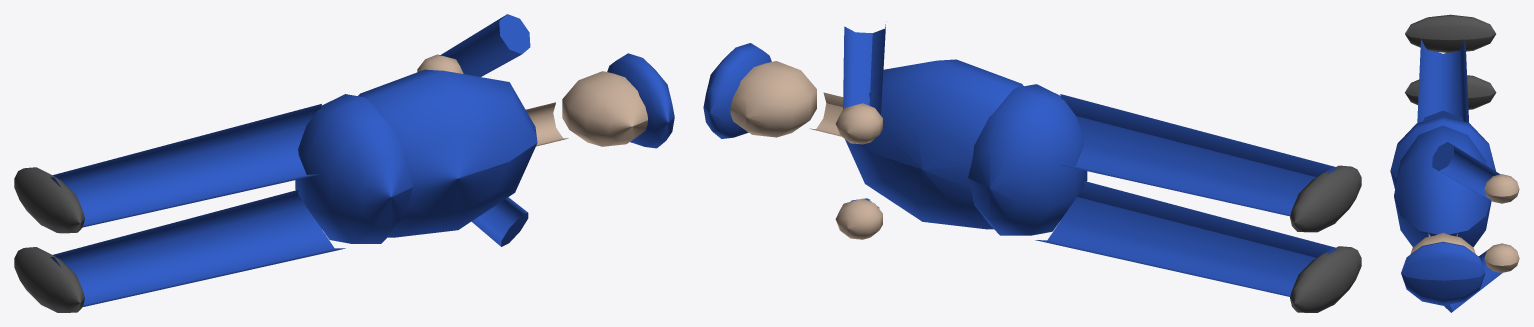
File: person_plain_prone.glb
3 renders of one model, left to right at view 1: azimuth 30°, elevation 25°; view 2: azimuth 150°, elevation 25°; view 3: azimuth 270°, elevation 25°, orthographic. The views are drawn at different scales.
Size of the model in its own units: 1.8 by 0.6286 by 0.44.
3 materials, 1 textured.
